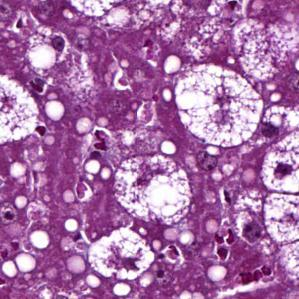ballooning: (174, 61, 267, 150), (114, 152, 196, 228), (85, 223, 157, 282), (261, 129, 297, 246), (4, 73, 42, 148)
